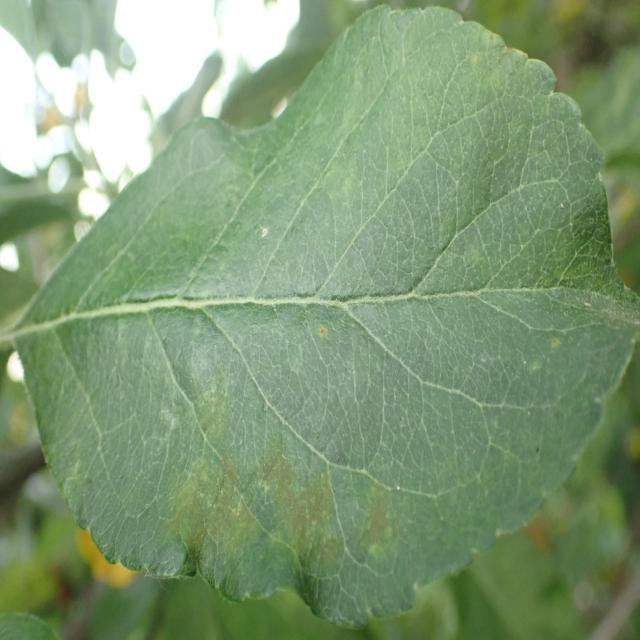scab: (62, 158, 474, 589)
